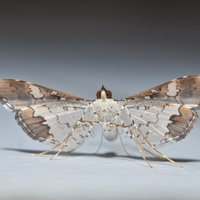insect: (0, 75, 199, 169)
